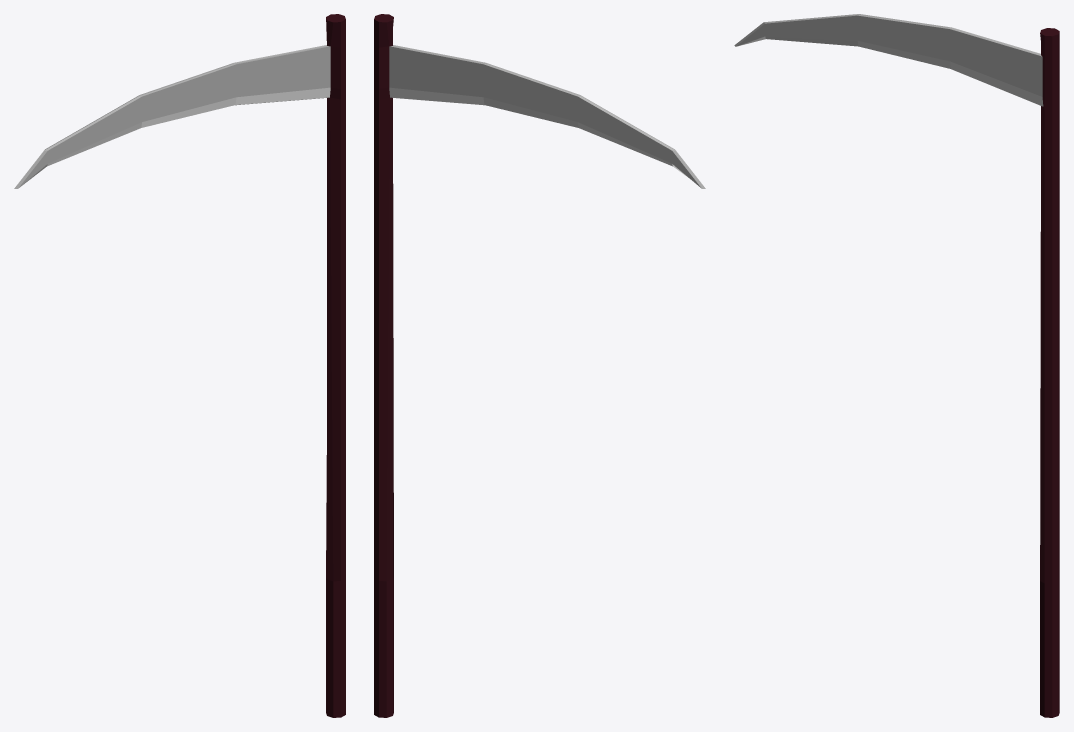
Rendered from Braid.fbx.
3 renders of one model, left to right at view 1: azimuth 30°, elevation 25°; view 2: azimuth 150°, elevation 25°; view 3: azimuth 330°, elevation 25°, orthographic. The views are drawn at different scales.
Visible parts, largest first — view 1: Braid; view 2: Braid; view 3: Braid.
Part boxes in pixels (x1,y1,x2,y2): Braid: [14, 14, 345, 717]; Braid: [374, 14, 705, 717]; Braid: [734, 14, 1059, 717].
Bounding box in the file's own units: 481 × 966 × 26.01.
